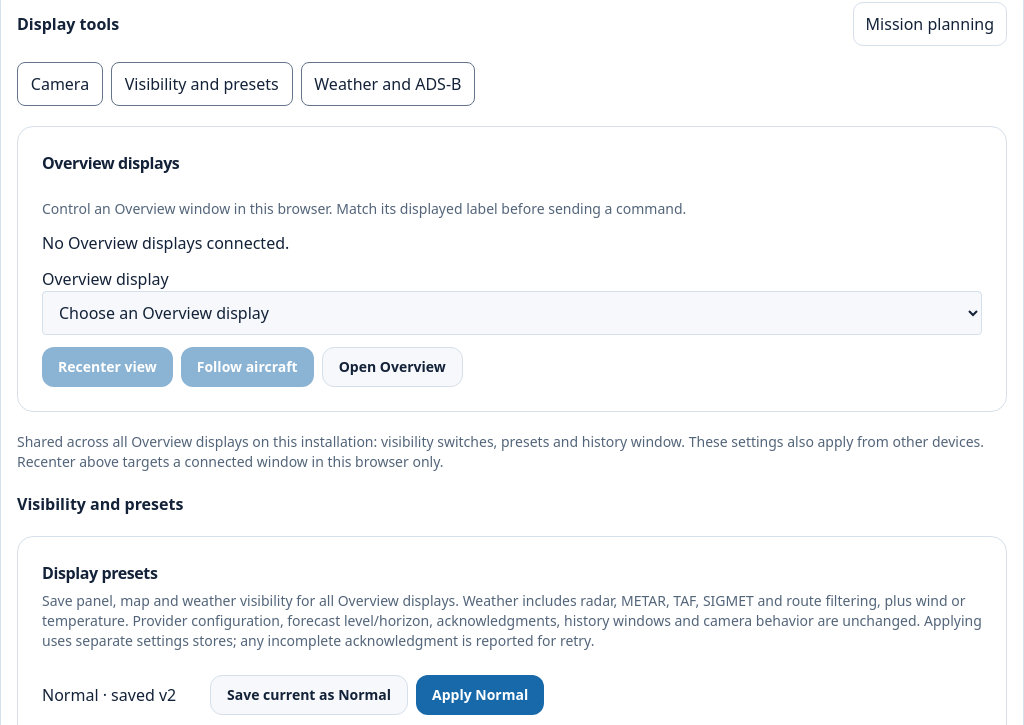
Test: refreshes a conflicting preset without overwriting the counterpart bundle
Step 1. Click the button "Save current as Normal" → click(309, 695), box x1=210 y1=675 x2=408 y2=715
(page scrolled)
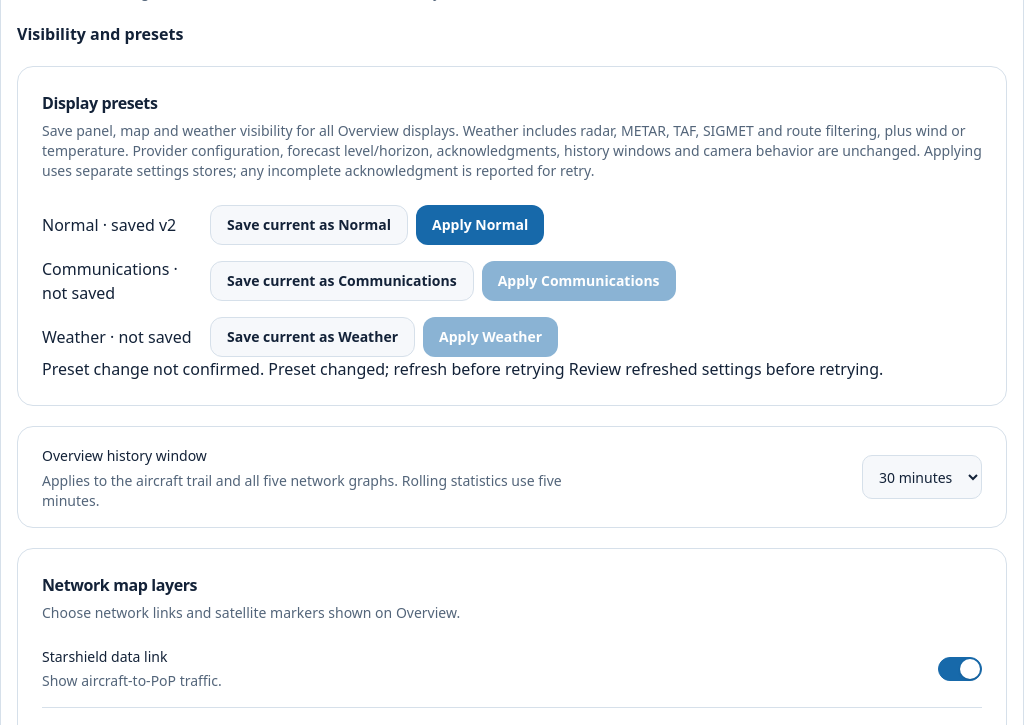
Expected: the text "Preset changed" is shown, x1=268 y1=358 x2=565 y2=380
